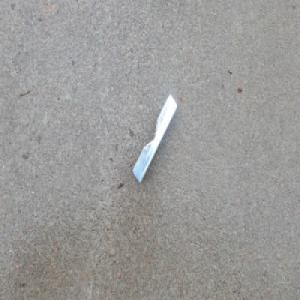ClampPart: (131, 93, 177, 184)
